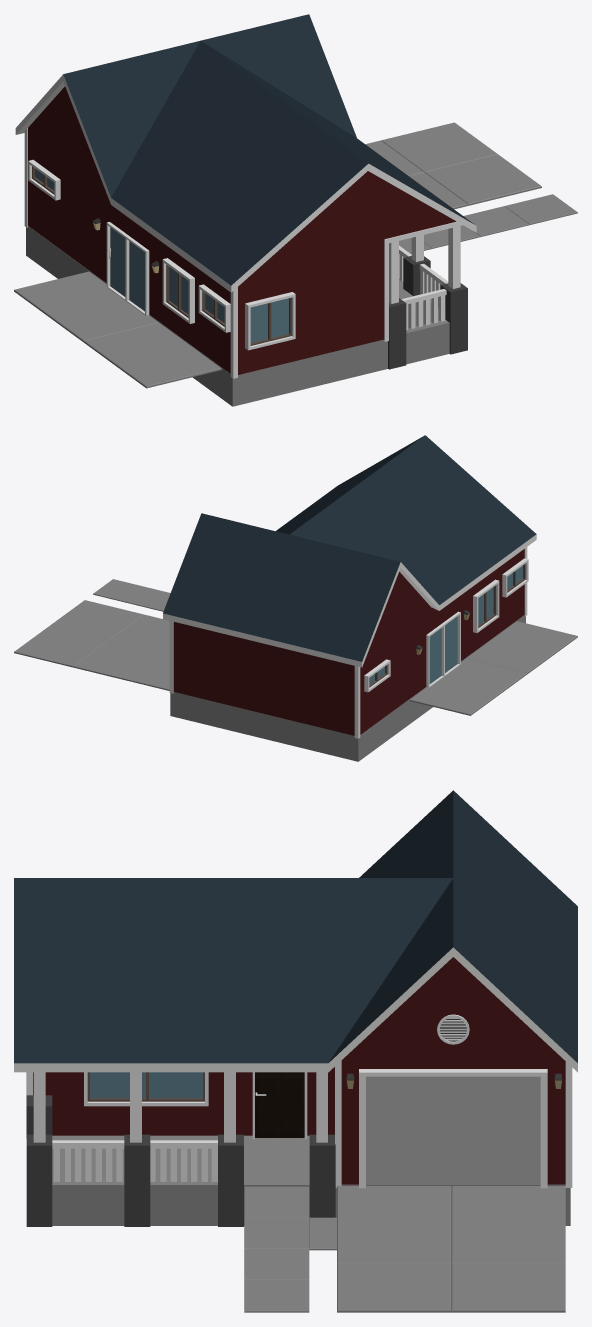
The model's file is Proto_HouseSmall_Red.fbx.
3 renders of one model, top to bottom at view 1: azimuth 30°, elevation 25°; view 2: azimuth 150°, elevation 25°; view 3: azimuth 270°, elevation 25°, orthographic. The views are drawn at different scales.
Visible parts, largest first — view 1: HouseSmall_Red; view 2: HouseSmall_Red; view 3: HouseSmall_Red.
Part boxes in pixels (x1,y1,x2,y2): HouseSmall_Red: (14,14,577,406); HouseSmall_Red: (14,435,577,761); HouseSmall_Red: (14,790,577,1312).
Size of the model in its own units: 32.35 by 13.28 by 24.02.
